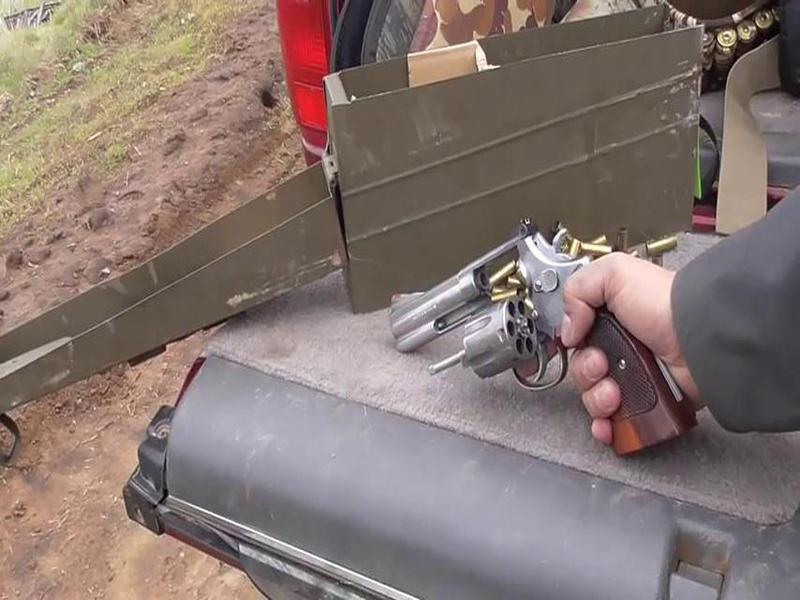Revolver: (355, 199, 730, 511)
